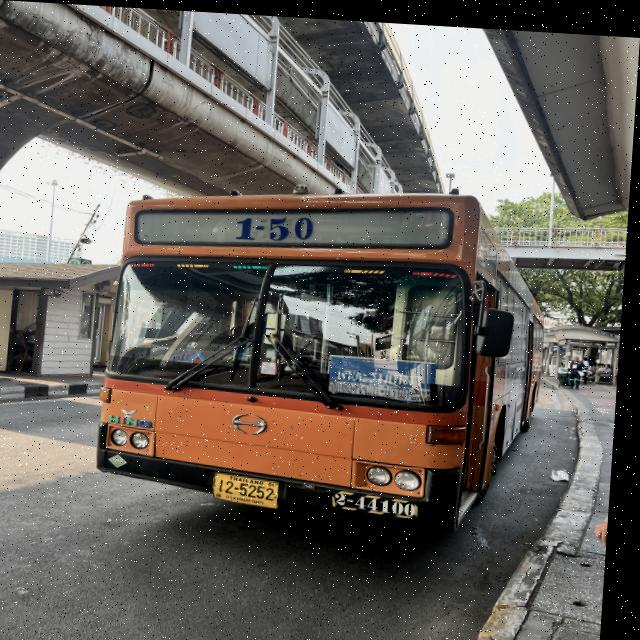BMTA-bus: (102, 190, 547, 528)
Bus Line Number: (230, 208, 322, 243)
Bus Side Number: (336, 485, 428, 515)
Destination Sign: (332, 350, 440, 398)
